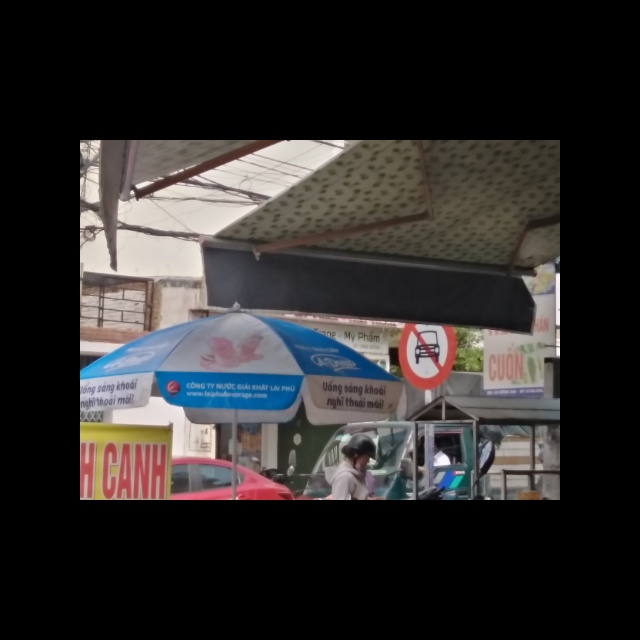Cấm xe ô tô: (397, 322, 460, 391)
